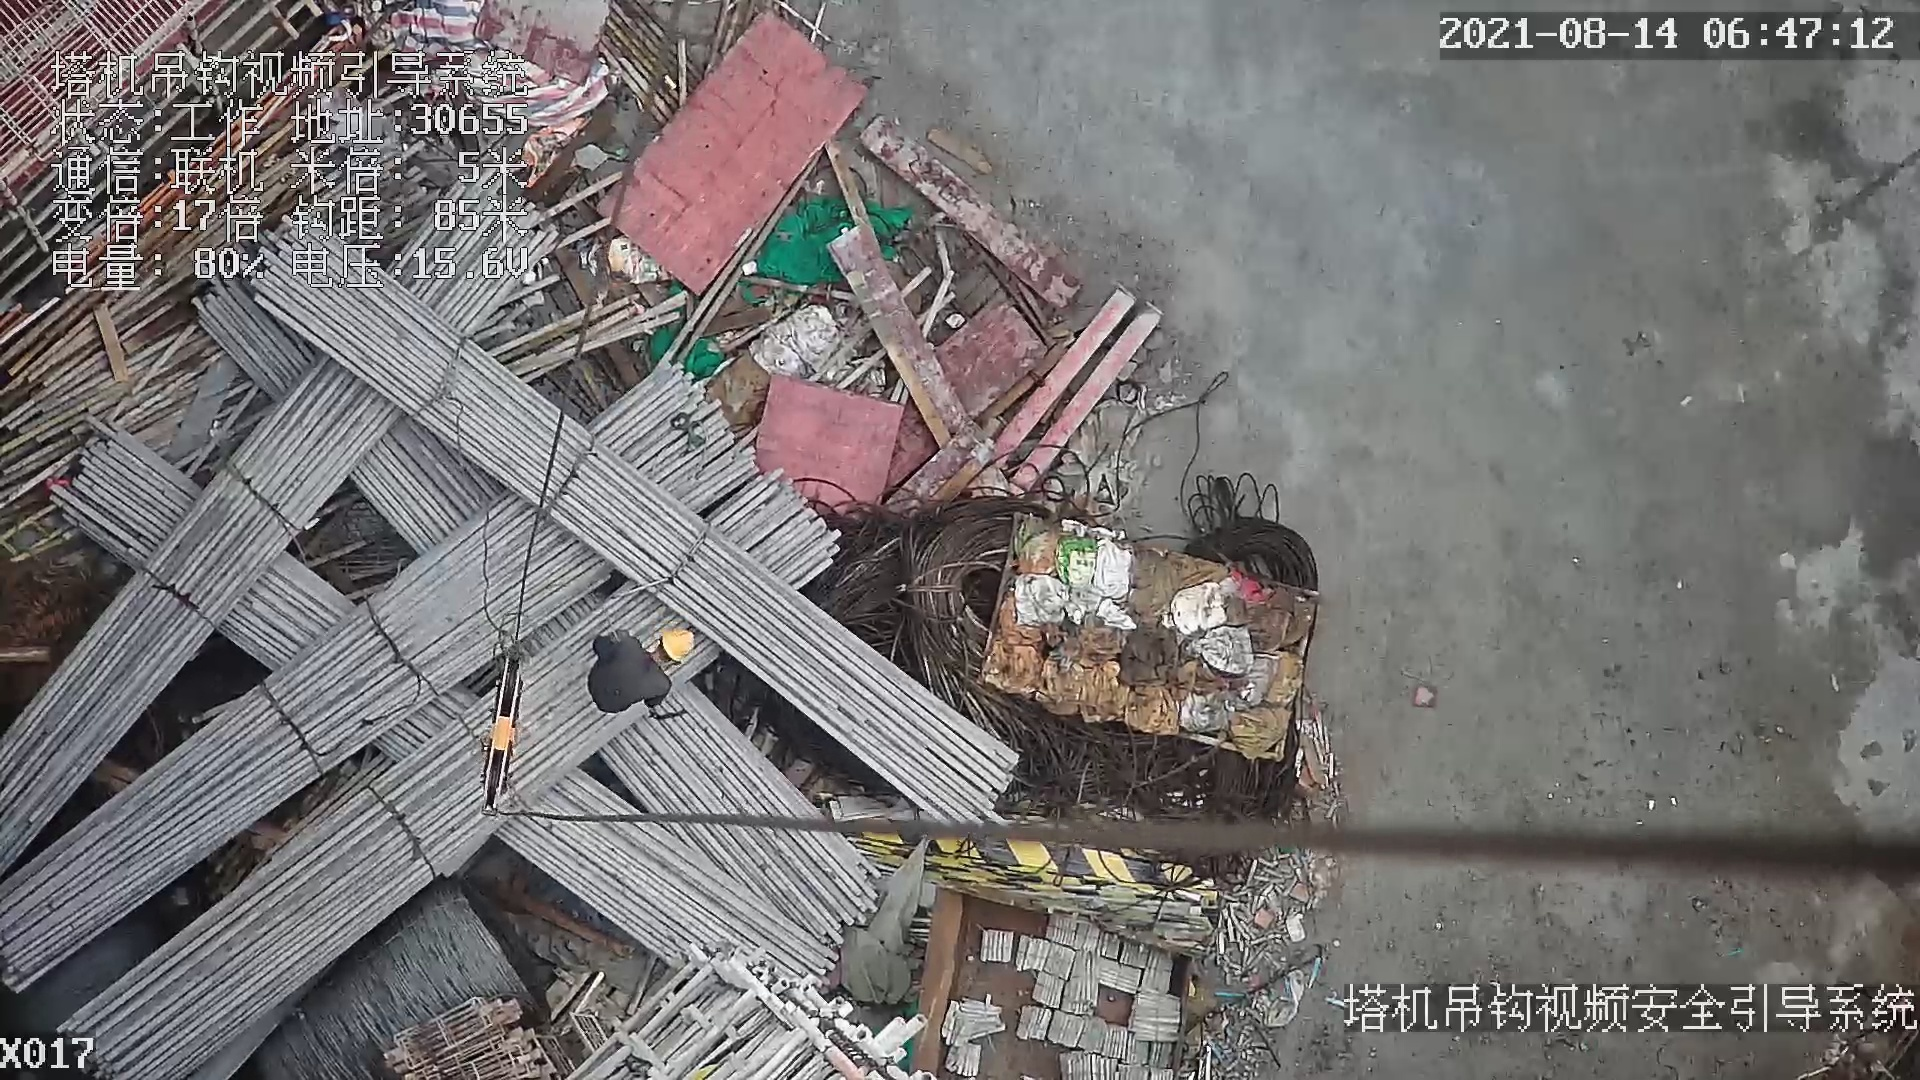board: (589, 8, 866, 304)
helmet: (662, 622, 700, 664)
hook: (476, 645, 532, 828)
person: (577, 622, 696, 722)
